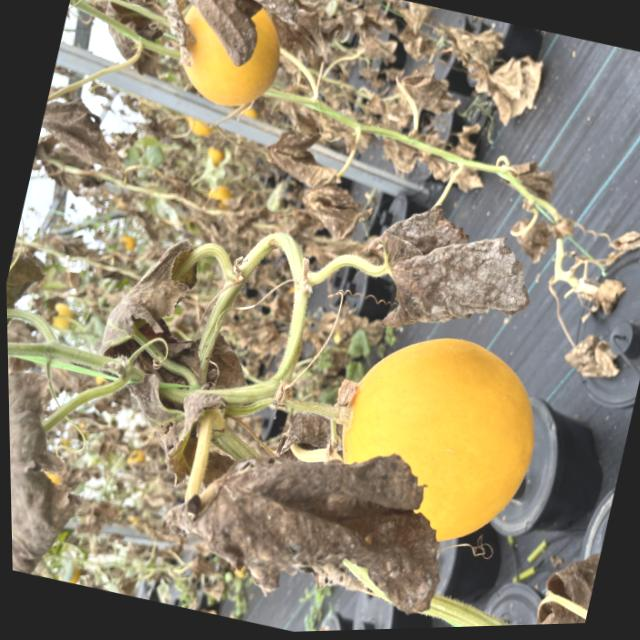bacterial wilt: (159, 392, 480, 636), (365, 183, 553, 343), (7, 325, 109, 580), (141, 0, 329, 93)
